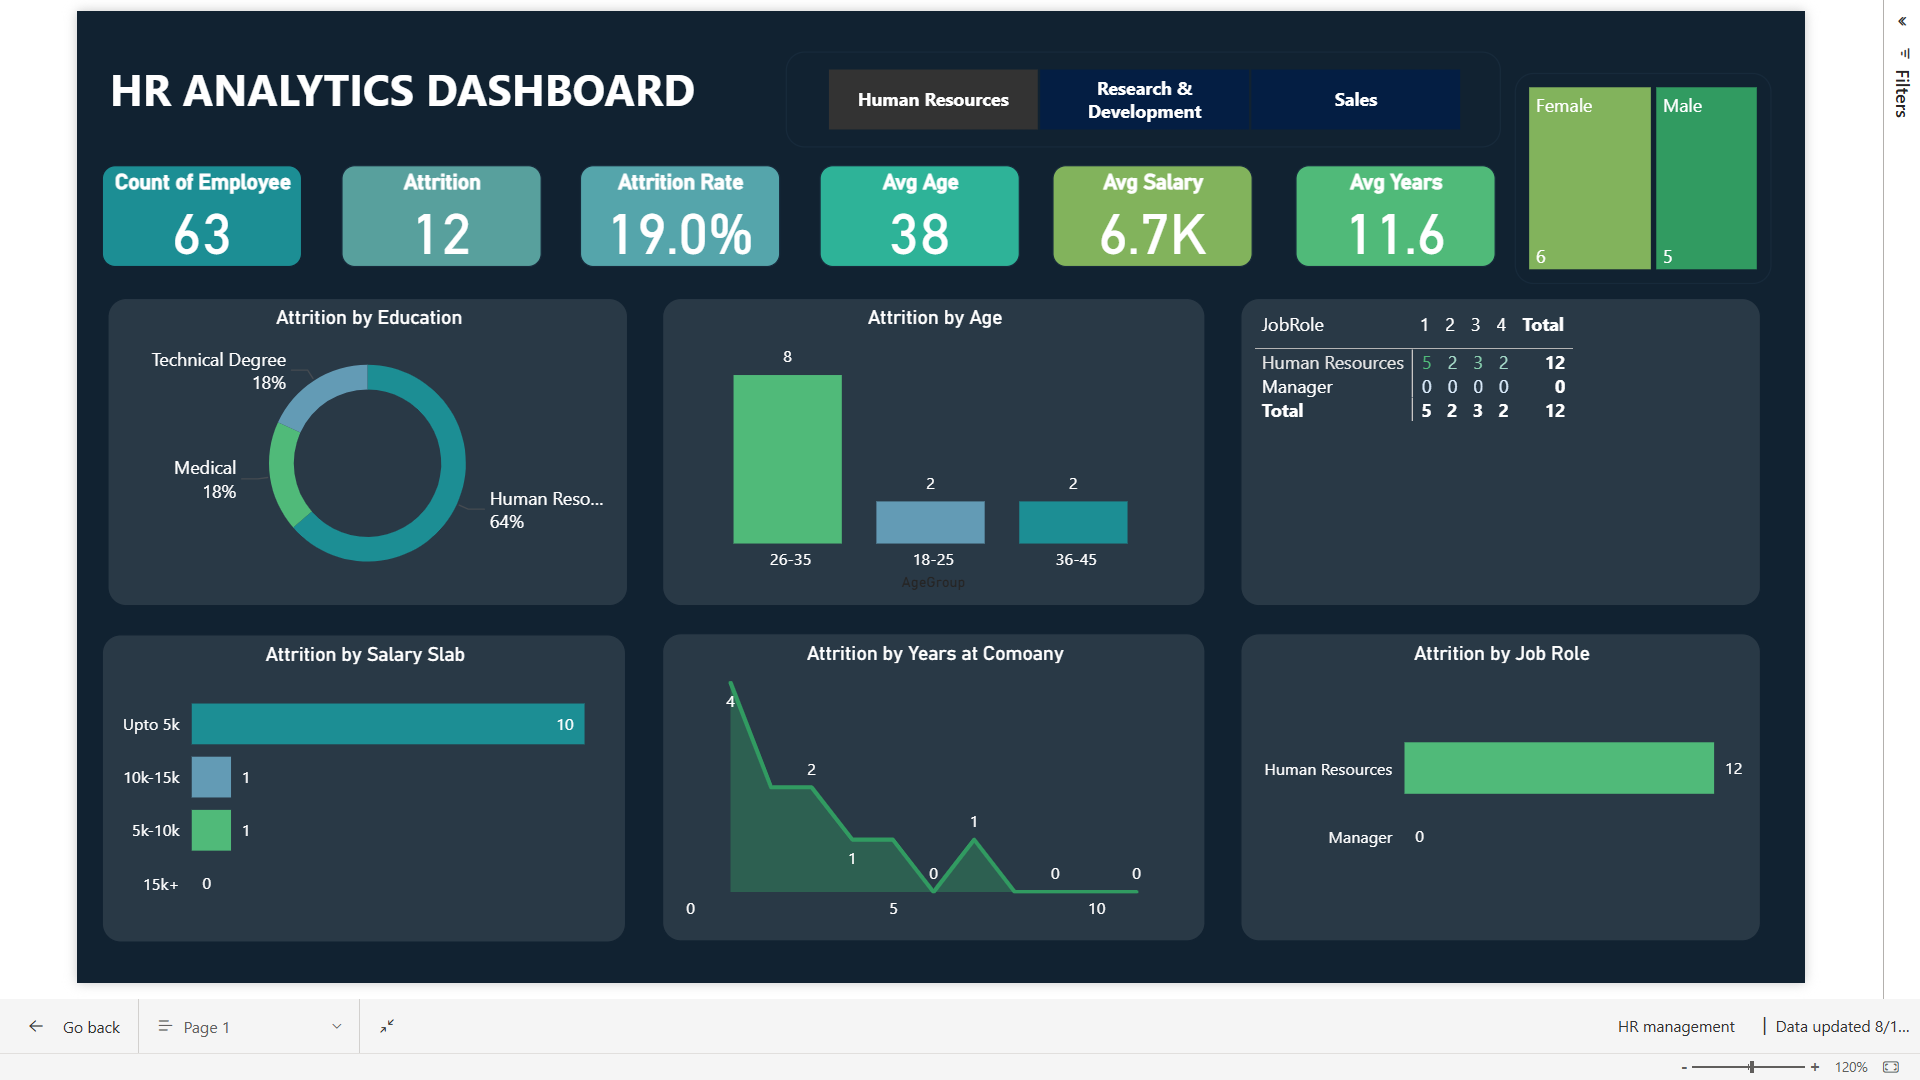

The dashboard page shown, as its layout file describes it:
{"tool":"powerbi","page":{"name":"Page 1","canvas":[1280,720],"ordinal":0},"visuals":[{"type":"card","title":"Count of Employee","fields":{"Values":["CountNonNull(HR_Analytics.EmpID)"]},"box":[18.6,114.3,148.6,75.7],"z":0},{"type":"card","title":"Attrition","fields":{"Values":["Sum(HR_Analytics.AttritionCount)"]},"box":[195.7,114.3,148,75.7],"z":1000},{"type":"card","title":"Attrition Rate","fields":{"Values":["HR_Analytics.AttritionRate"]},"box":[372.9,114.3,148,75.7],"z":2000},{"type":"card","title":"Avg Age","fields":{"Values":["Avg(HR_Analytics.Age)"]},"box":[550,114.3,148.6,75.7],"z":3000},{"type":"card","title":"Avg Salary","fields":{"Values":["Avg(HR_Analytics.MonthlyIncome)"]},"box":[722.9,114.3,148,75.7],"z":4000},{"type":"card","title":"Avg Years","fields":{"Values":["Avg(HR_Analytics.TotalWorkingYears)"]},"box":[902.9,114.3,148,75.7],"z":5000},{"type":"donutChart","title":"Attrition by Education","fields":{"Category":["HR_Analytics.EducationField"],"Y":["Sum(HR_Analytics.AttritionCount)"]},"box":[22.9,212.9,386,228.6],"z":6000},{"type":"columnChart","title":"Attrition by Age","fields":{"Category":["HR_Analytics.AgeGroup"],"Y":["Sum(HR_Analytics.AttritionCount)"]},"box":[433.1,212.3,403,228],"z":7000},{"type":"pivotTable","fields":{"Rows":["HR_Analytics.JobRole"],"Columns":["HR_Analytics.JobSatisfaction"],"Values":["Sum(HR_Analytics.AttritionCount)"]},"box":[861.4,212.3,386.1,228],"z":8000},{"type":"barChart","title":"Attrition by Salary Slab","fields":{"Category":["HR_Analytics.SalarySlab"],"Y":["Sum(HR_Analytics.AttritionCount)"]},"box":[18.6,461.4,388.6,228],"z":9000},{"type":"barChart","title":"Attrition by Job Role","fields":{"Category":["HR_Analytics.JobRole"],"Y":["Sum(HR_Analytics.AttritionCount)"]},"box":[861.4,460.9,386.1,228],"z":10000},{"type":"areaChart","title":"Attrition by Years at Comoany","fields":{"Category":["HR_Analytics.YearsAtCompany"],"Y":["Sum(HR_Analytics.AttritionCount)"]},"box":[433.1,460.9,403,228],"z":11000},{"type":"treemap","title":"Attrition by Gender","fields":{"Group":["HR_Analytics.Gender"],"Values":["Sum(HR_Analytics.AttritionCount)"]},"box":[1065.3,45.8,190.6,156.8],"z":12000},{"type":"slicer","fields":{"Values":["HR_Analytics.Department"]},"box":[524.8,30.2,529.6,71.2],"z":13000},{"type":"textbox","box":[19.2,30.2,478.9,56.3],"z":14000}]}

Visuals, with their boxes on the page's 1280x720 design canvas (x1, y1, x2, y2). These are canvas units, not pixel positions in the 1920x1080 screenshot, which may show the page scaled, cropped or inside an application window:
"Count of Employee" card: 19:114:167:190
"Attrition" card: 196:114:344:190
"Attrition Rate" card: 373:114:521:190
"Avg Age" card: 550:114:699:190
"Avg Salary" card: 723:114:871:190
"Avg Years" card: 903:114:1051:190
"Attrition by Education" donutChart: 23:213:409:442
"Attrition by Age" columnChart: 433:212:836:440
pivotTable - HR_Analytics.JobRole x HR_Analytics.JobSatisfaction: 861:212:1248:440
"Attrition by Salary Slab" barChart: 19:461:407:689
"Attrition by Job Role" barChart: 861:461:1248:689
"Attrition by Years at Comoany" areaChart: 433:461:836:689
"Attrition by Gender" treemap: 1065:46:1256:203
slicer - HR_Analytics.Department: 525:30:1054:101
textbox: 19:30:498:86
